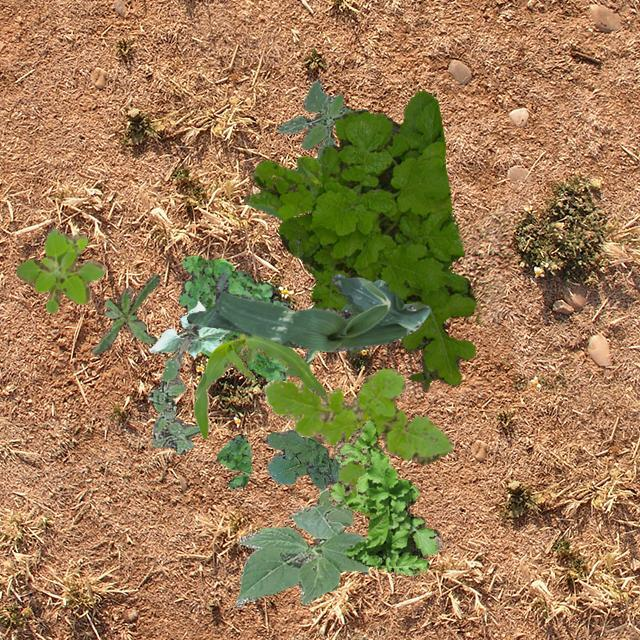crop: (186, 270, 430, 350), (235, 488, 366, 606), (192, 332, 326, 438), (304, 278, 388, 364), (148, 300, 228, 358)
weed: (276, 90, 474, 384), (264, 366, 452, 516), (328, 418, 442, 574), (176, 254, 290, 380), (15, 228, 104, 312), (276, 80, 368, 158), (146, 338, 200, 453), (90, 272, 160, 354), (242, 154, 322, 220), (264, 428, 339, 488), (216, 434, 250, 488), (408, 351, 436, 388)
